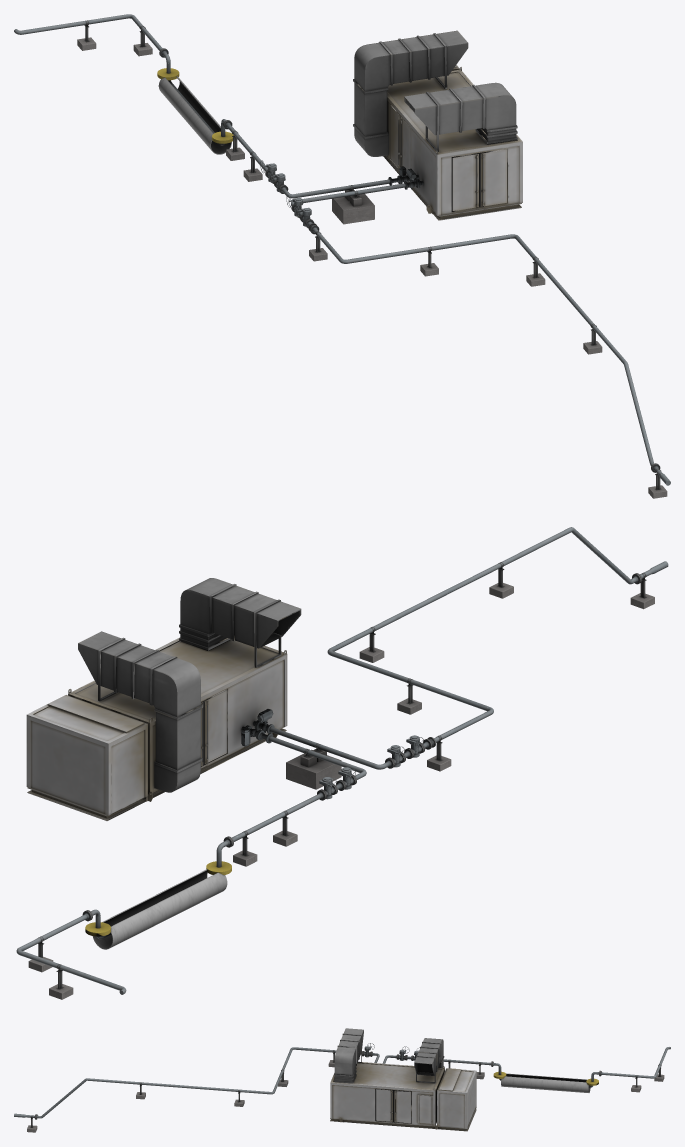
File: Full Recompression Line-v1.glb
3 views of the same model, one above another, from view 1: azimuth 30°, elevation 25°; view 2: azimuth 150°, elevation 25°; view 3: azimuth 270°, elevation 25° (orthographic). The views are drawn at different scales.
Parts seen in each view (by area): view 1: SM_FullRecompressionLine (×2); view 2: SM_FullRecompressionLine (×2); view 3: SM_FullRecompressionLine (×2).
Part boxes in pixels (box(x1,y1,x2,y2)): SM_FullRecompressionLine (×2): box(14, 14, 670, 498); SM_FullRecompressionLine (×2): box(16, 527, 668, 999); SM_FullRecompressionLine (×2): box(14, 1028, 670, 1132).
Bounding box in the file's own units: 2.95 × 2.05 × 11.16.
Materials: 2 (2 with a texture image).
